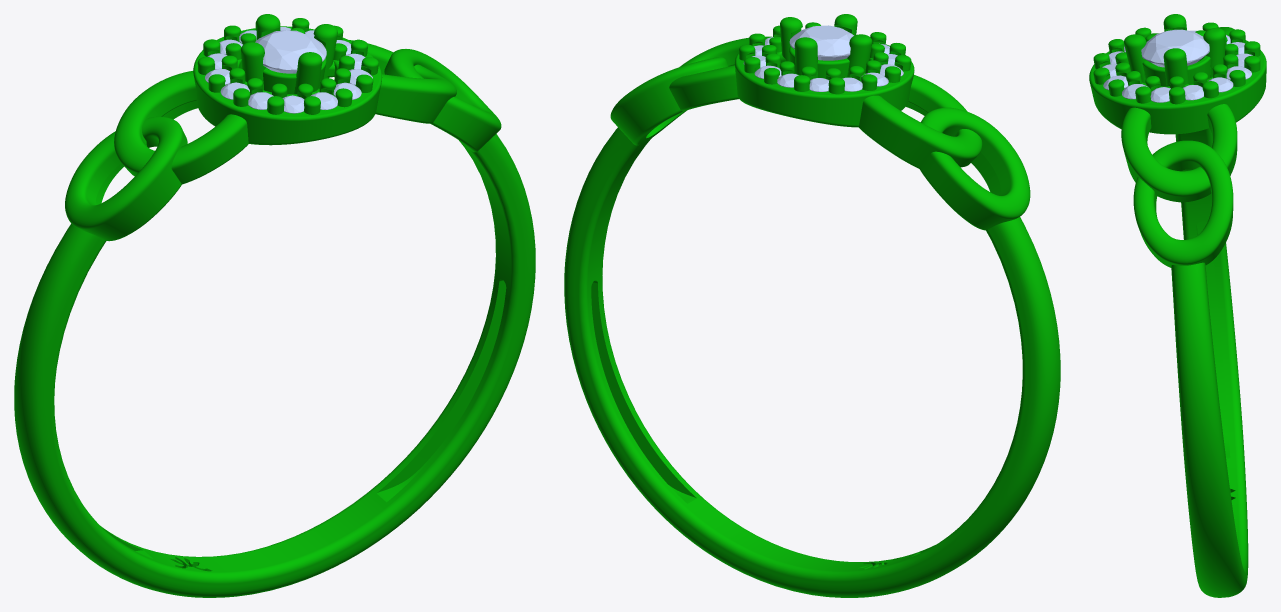
3 renders of one model, left to right at view 1: azimuth 30°, elevation 25°; view 2: azimuth 150°, elevation 25°; view 3: azimuth 270°, elevation 25°, orthographic. The views are drawn at different scales.
Parts seen in each view (by area): view 1: d.3dm; view 2: d.3dm; view 3: d.3dm.
Part boxes in pixels (x1,y1,x2,y2): d.3dm: [14, 14, 535, 597]; d.3dm: [564, 14, 1060, 597]; d.3dm: [1089, 14, 1266, 597].
Size of the model in its own units: 2.67 by 2.86 by 0.8485.
